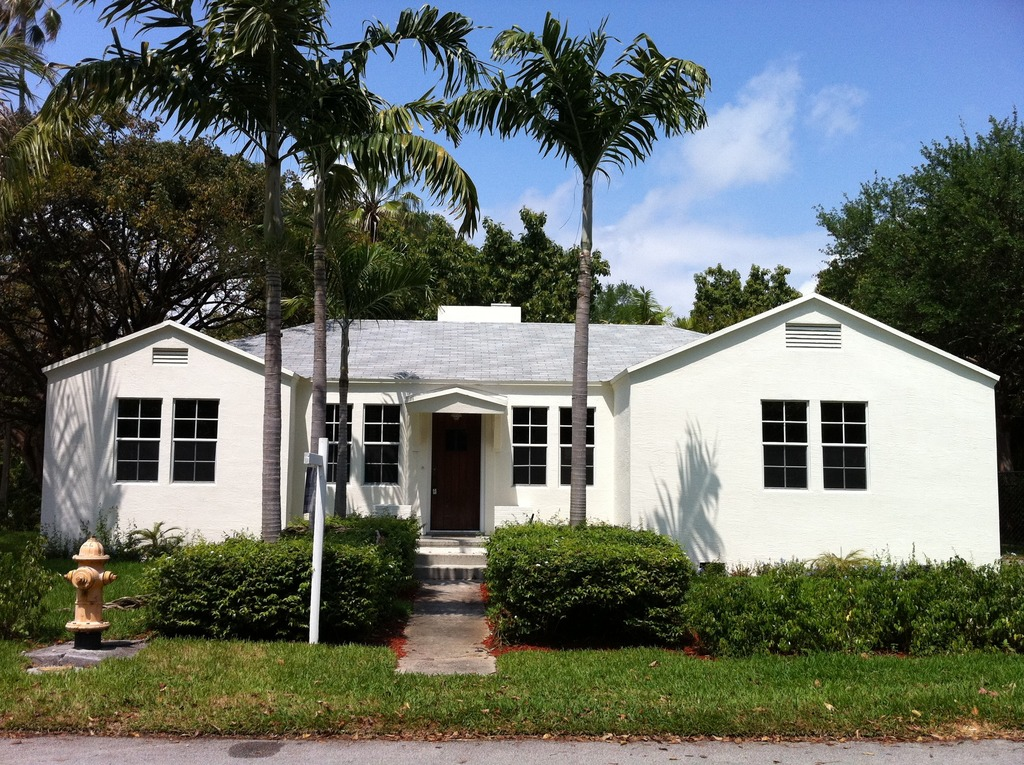door: (434, 416, 479, 526)
